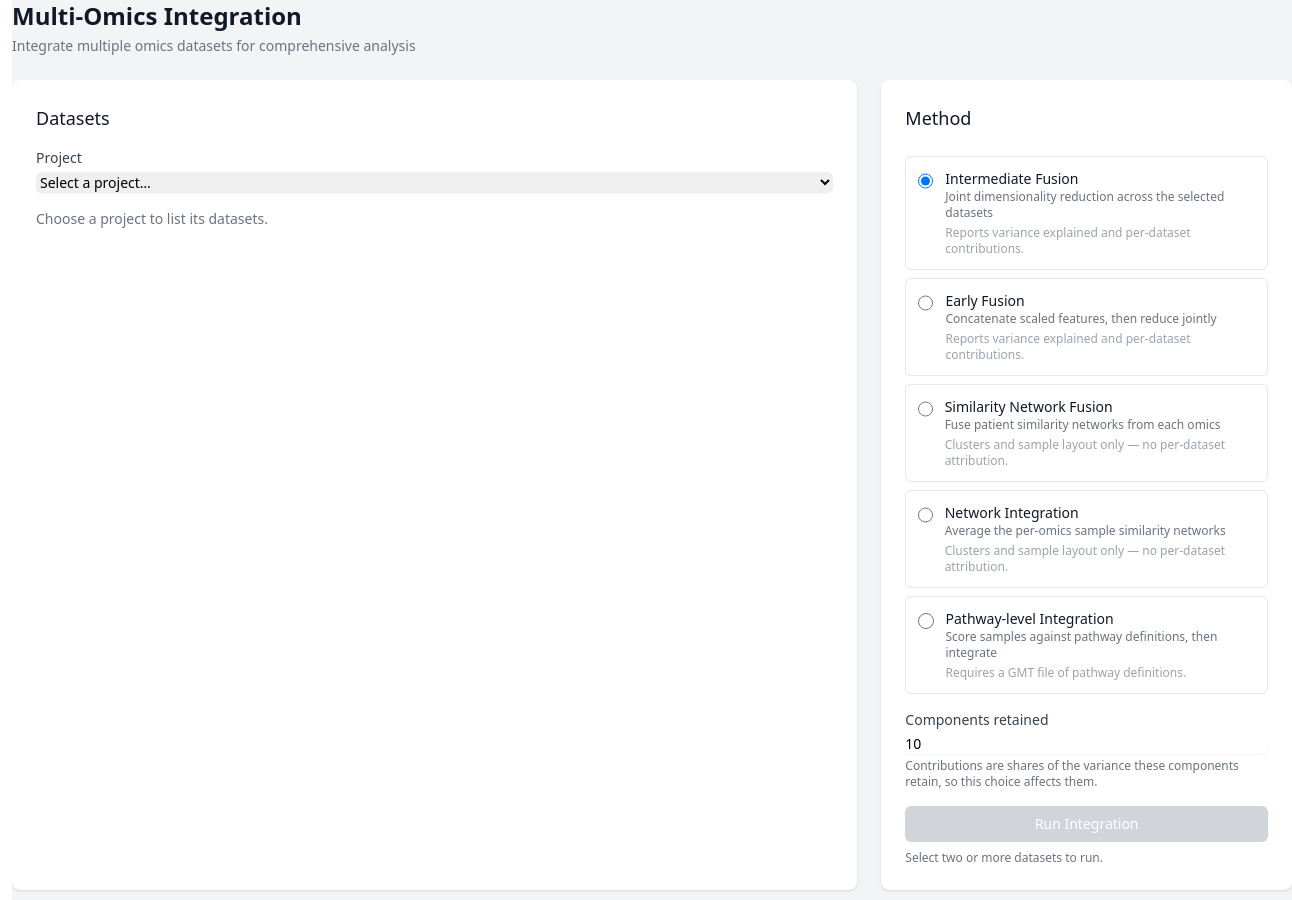
Test case: Integration page — network methods › says why no per-dataset attribution is shown
Select "Cohort A" in the dropdown labelled "Project" at (435, 182), box [36,172,833,193]
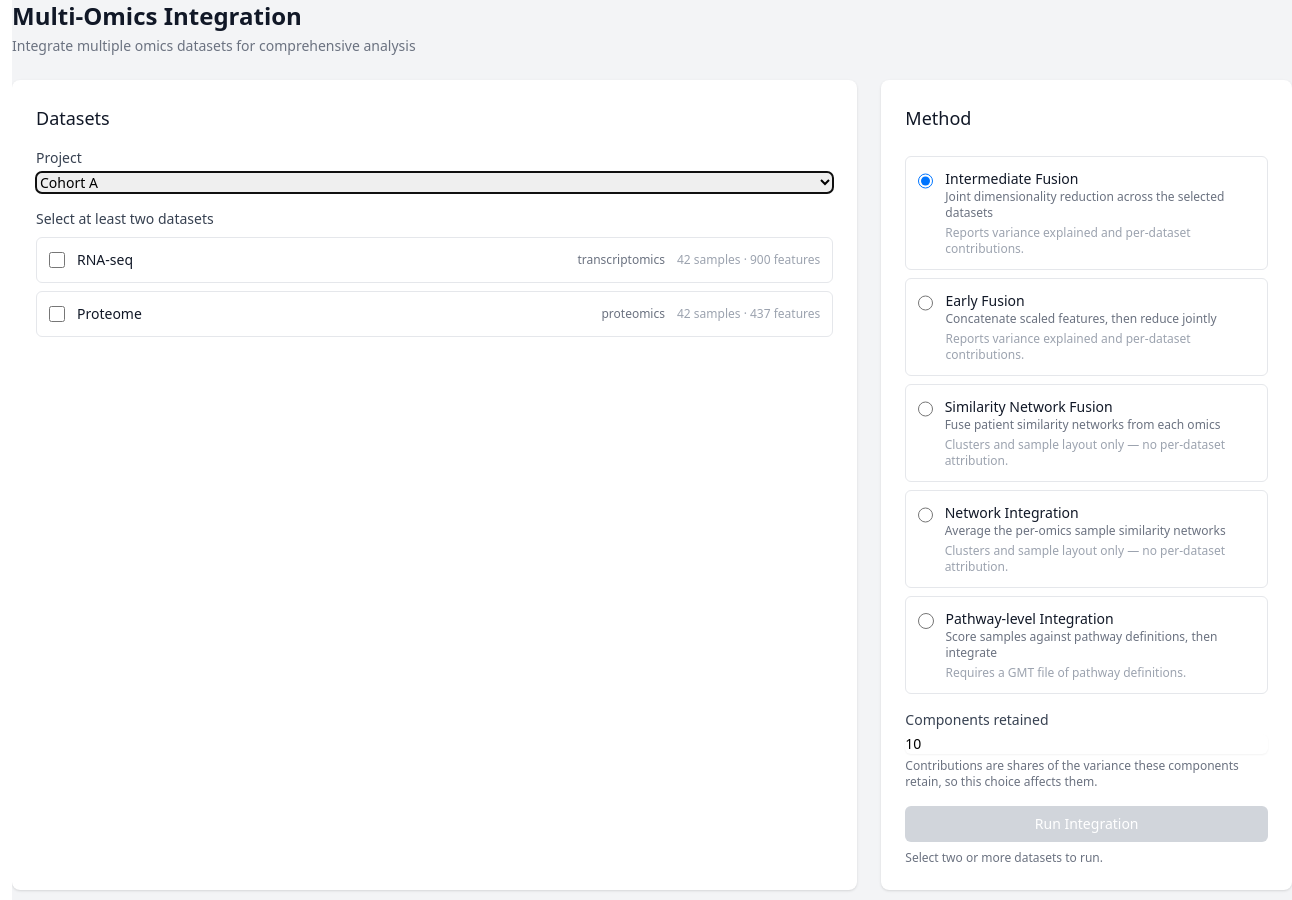
Click the checkbox labelled "RNA-seq transcriptomics 42 samples · 900 features" at (57, 260), box [49,252,65,268]
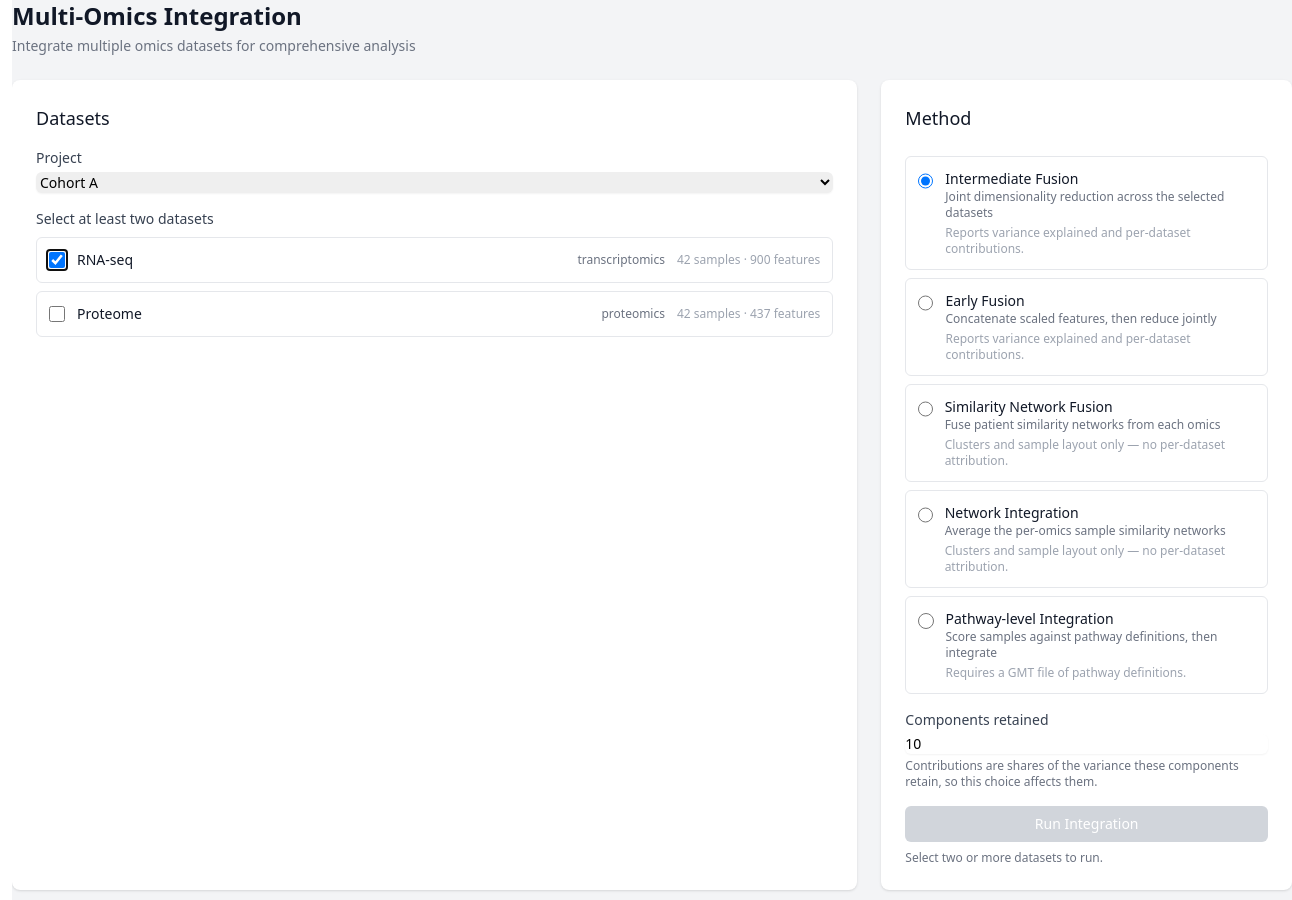
Click the checkbox labelled "Proteome proteomics 42 samples · 437 features" at (57, 314), box [49,306,65,322]
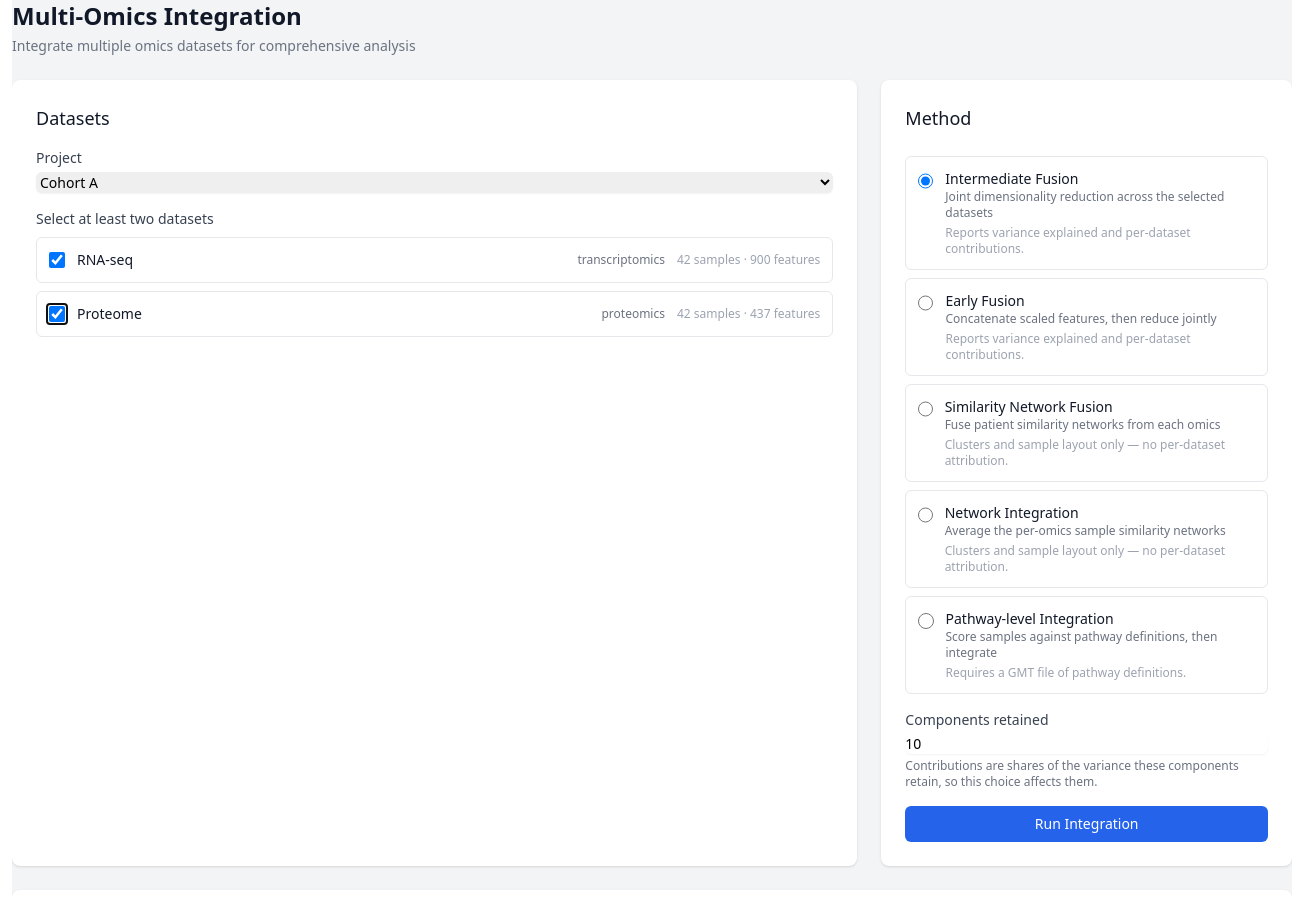
Click the radio button labelled "Similarity Network Fusion" at (925, 409), box [918,401,933,417]
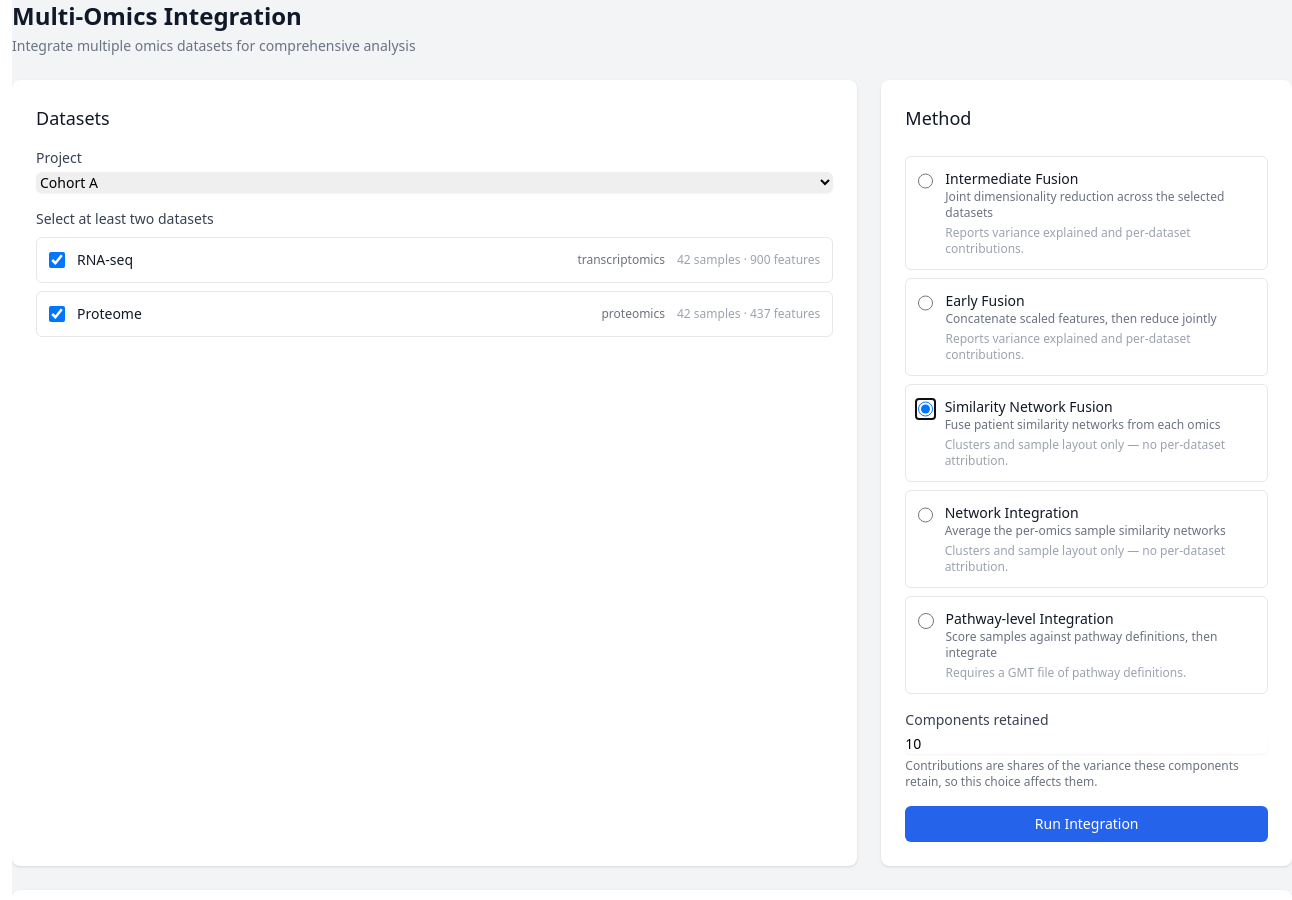
Click the button "Run Integration" at (1087, 824), box [905,806,1268,842]
(page scrolled)
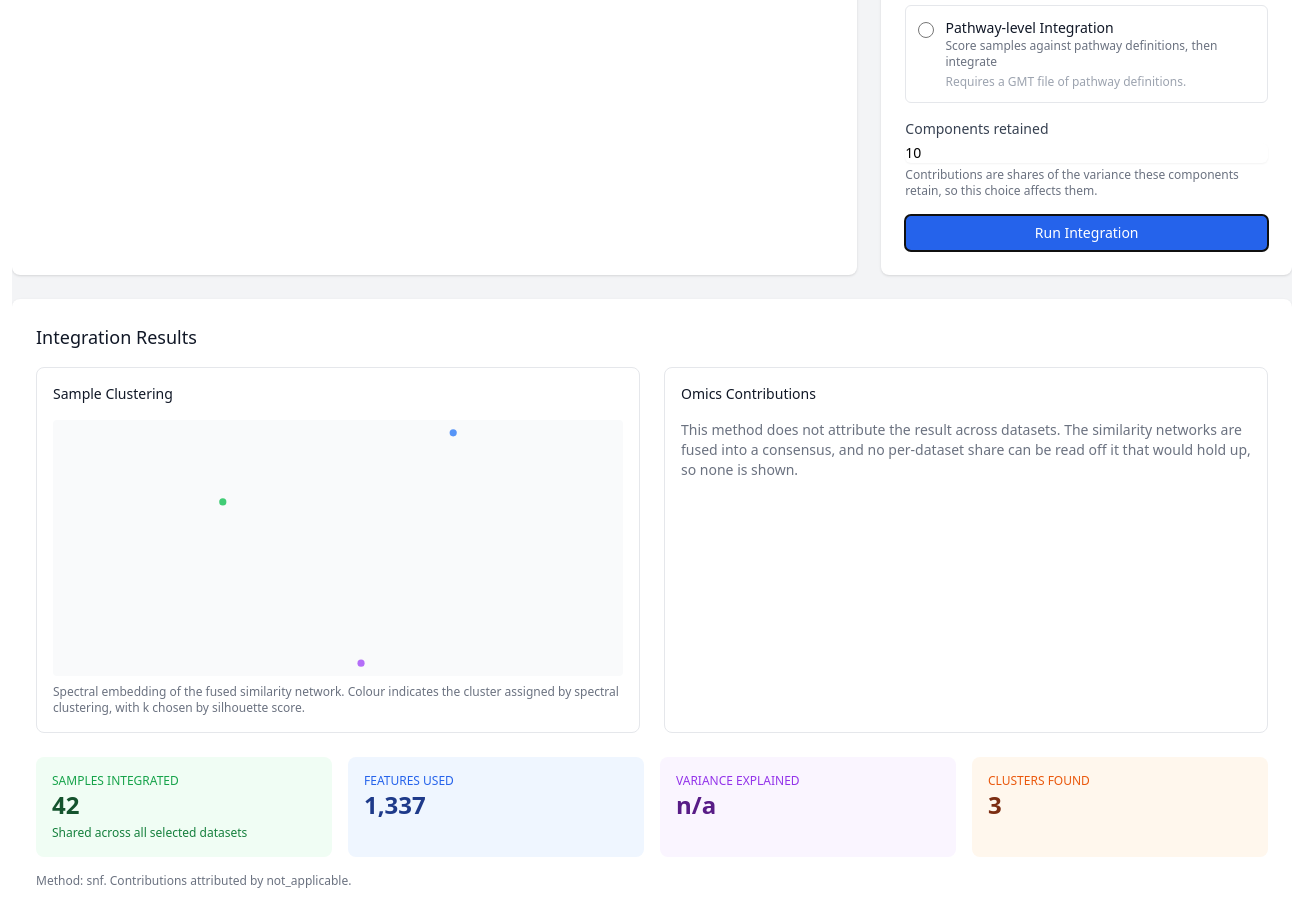
Now the heading "Integration Results" is shown, box [36,325,197,349]
Now the text "does not attribute the result across datasets" is shown, box [681,420,1251,479]
